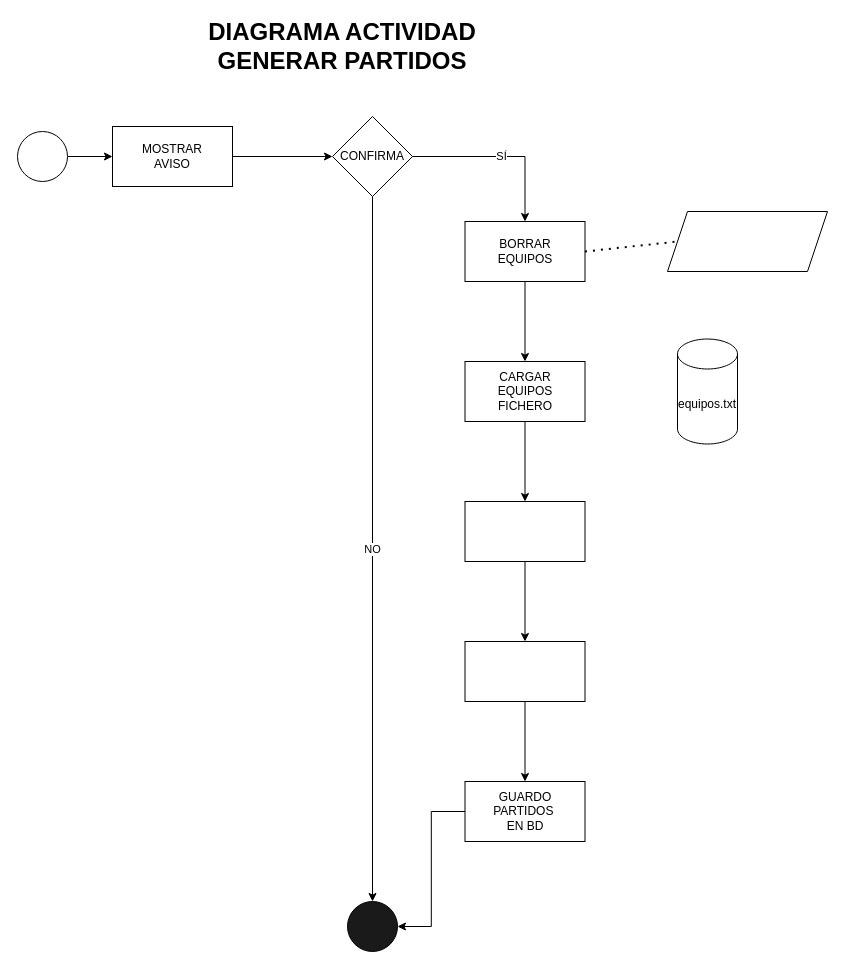
Image size: 845x969. Some labels were removed from this diagram. Each missing label, with the centre of its shape:
"BORRAR LOS PARTIDOS AUTOMÁTICAMENTE" belongs at pixel 747 241.
"GENERO PARTIDOS" belongs at pixel 524 531.
"GUARDO EQUIPOS EN BD" belongs at pixel 524 671.
